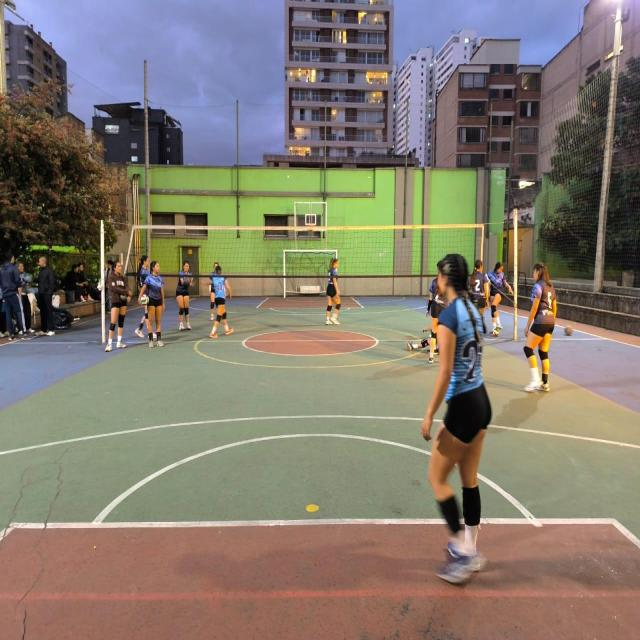volleyball: (140, 295, 149, 305), (492, 327, 500, 336)
